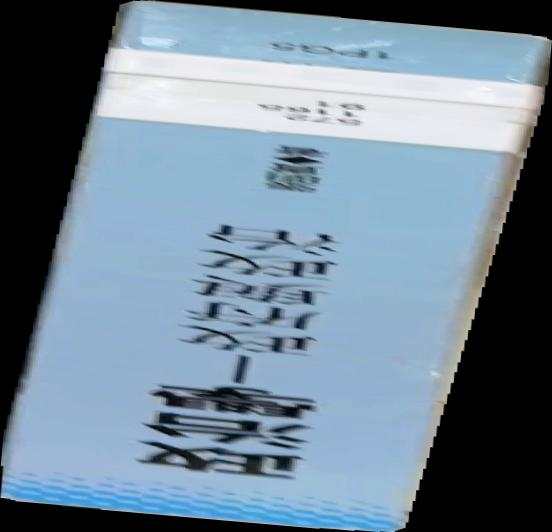reverse: (1, 1, 552, 532)
